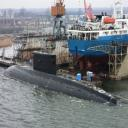submarine: (1, 52, 121, 107)
